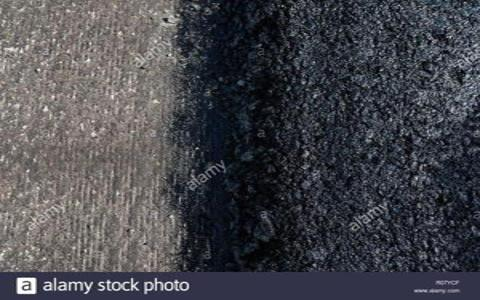Proper road: (279, 3, 458, 253)
